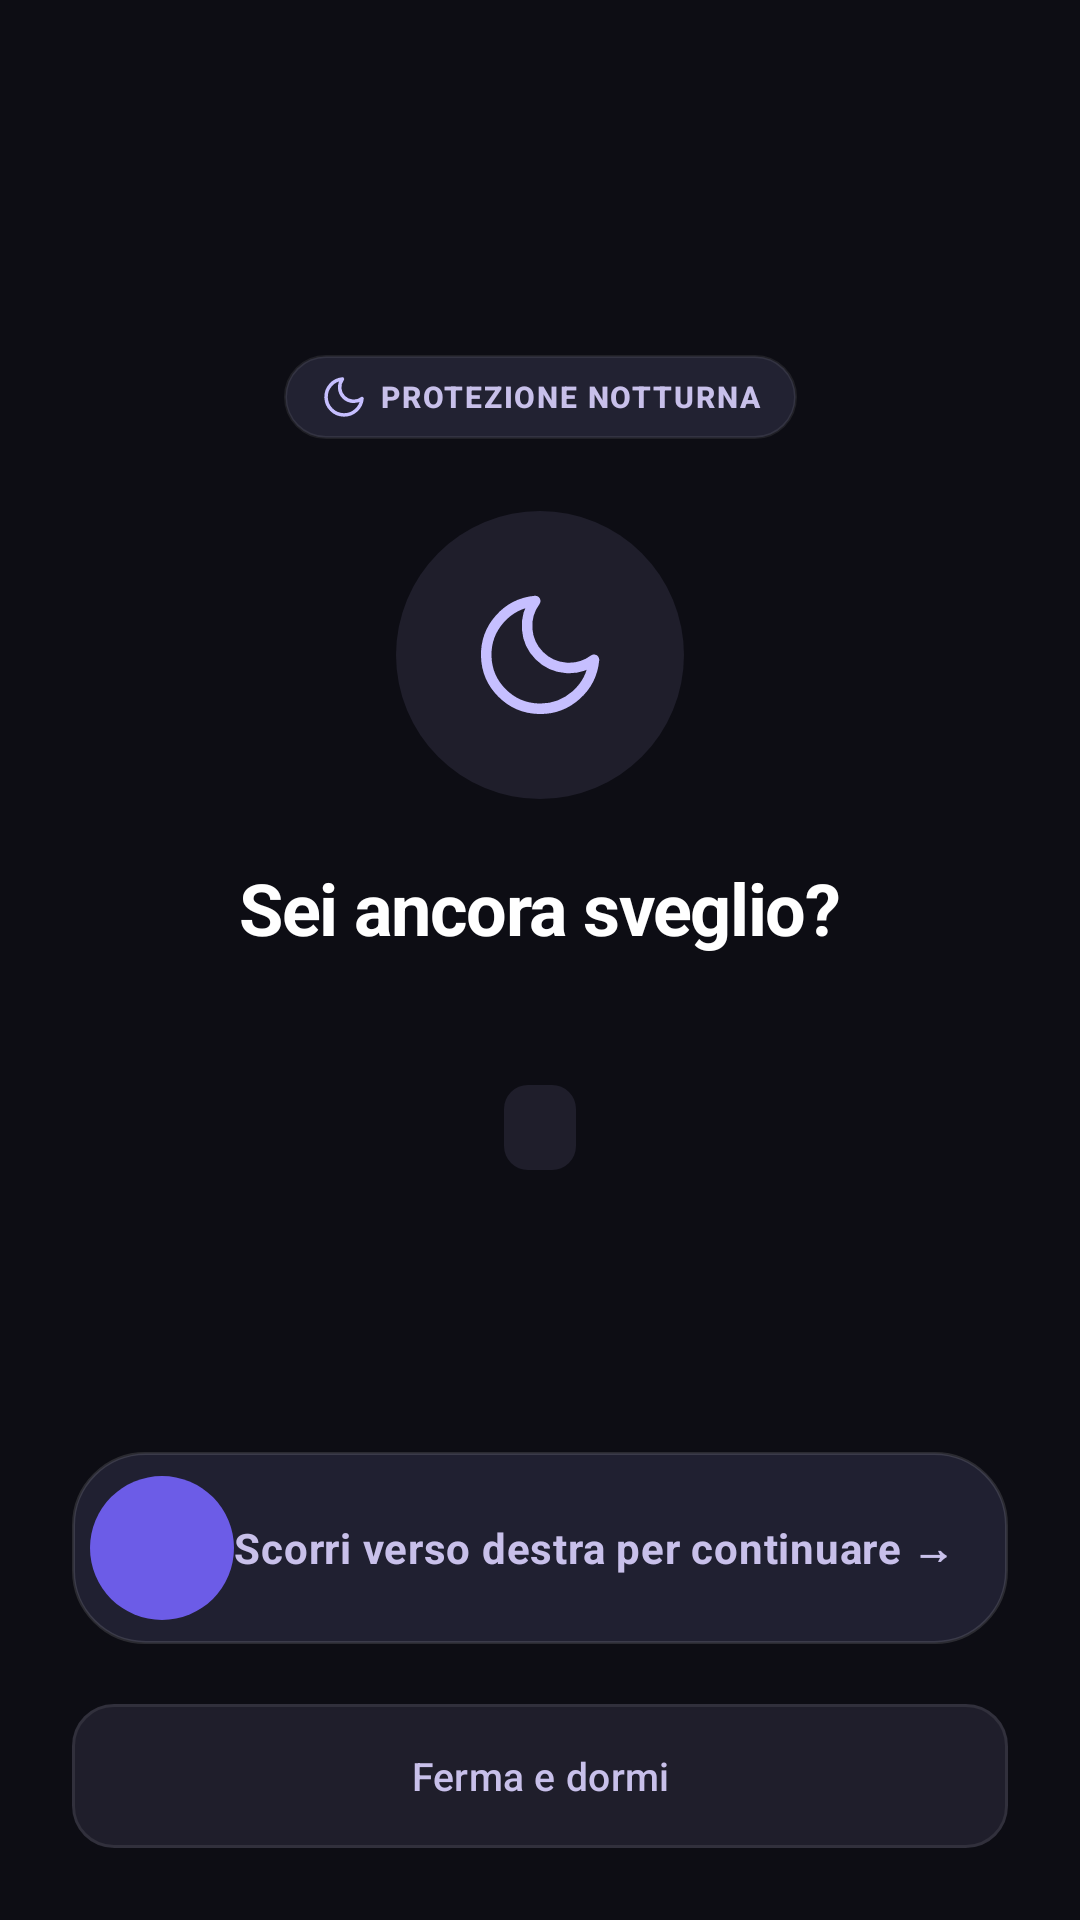

Icon click points for this 1080×1920 phone screenshot, format (x,y):
moon: (344,397), (540,655)
